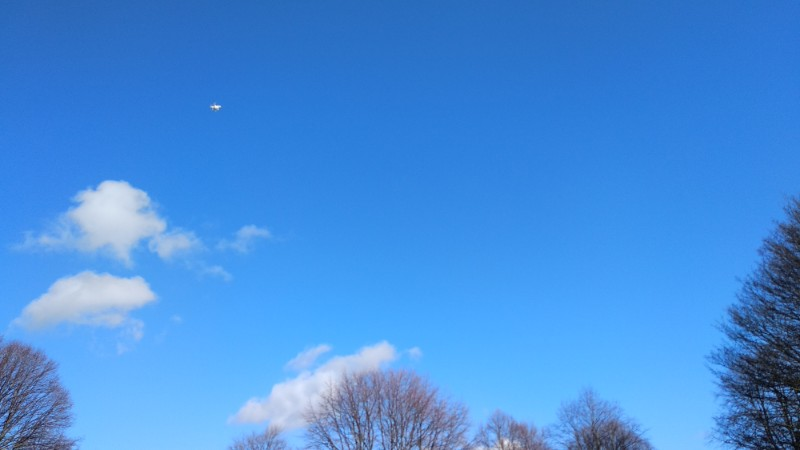drone: (208, 102, 221, 111)
